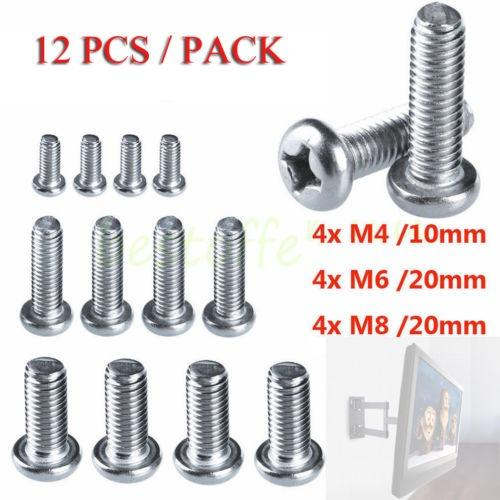Tornillo: (263, 110, 486, 206), (386, 3, 483, 220), (253, 357, 330, 489), (171, 357, 249, 482), (89, 358, 166, 484), (8, 356, 84, 480), (17, 213, 75, 338), (140, 213, 198, 338), (202, 212, 258, 340), (80, 214, 135, 340), (27, 129, 71, 198), (72, 130, 109, 198), (152, 133, 189, 201), (113, 132, 150, 197)
